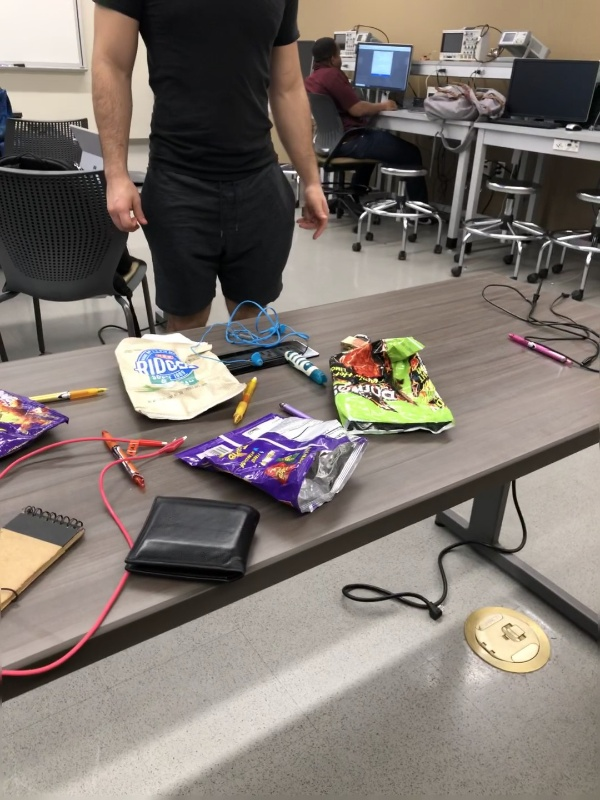bag: (171, 411, 368, 521), (316, 333, 465, 440), (115, 333, 251, 425), (1, 387, 75, 470)
